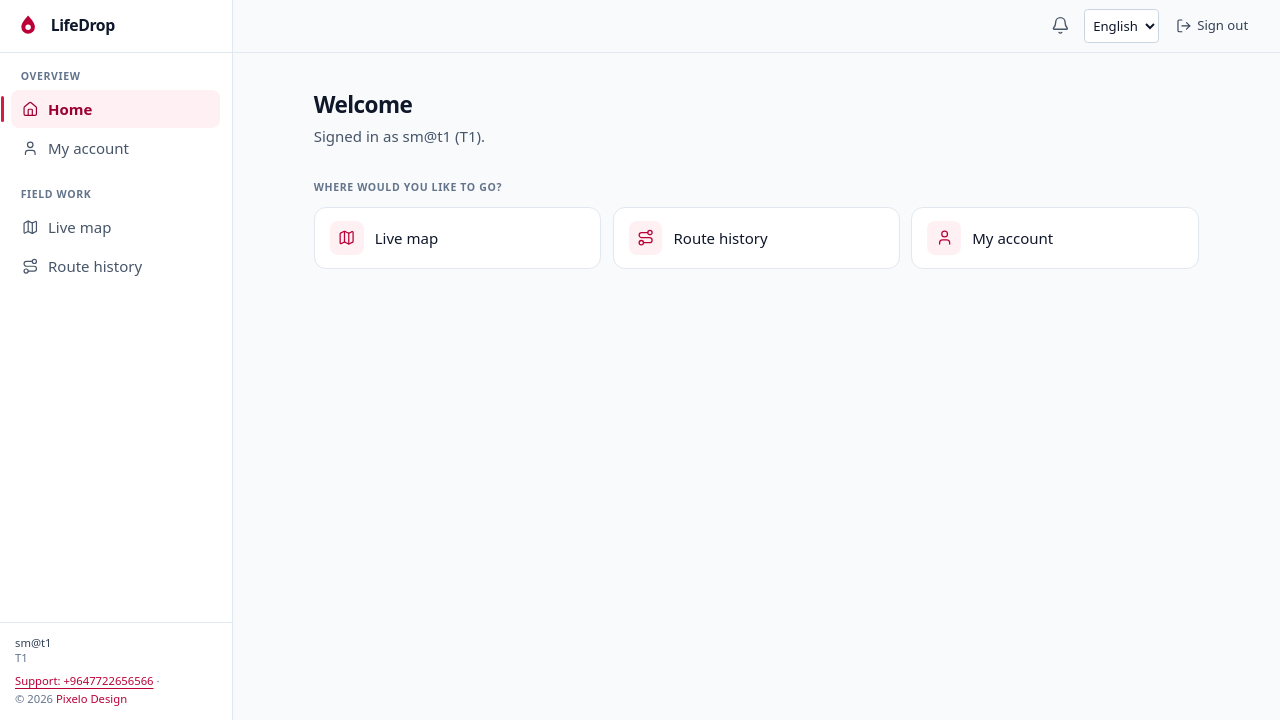
it: route history › shows the server error when the route cannot be read
Click the button "Route history".
click(116, 267)  # box [11,248,220,285]
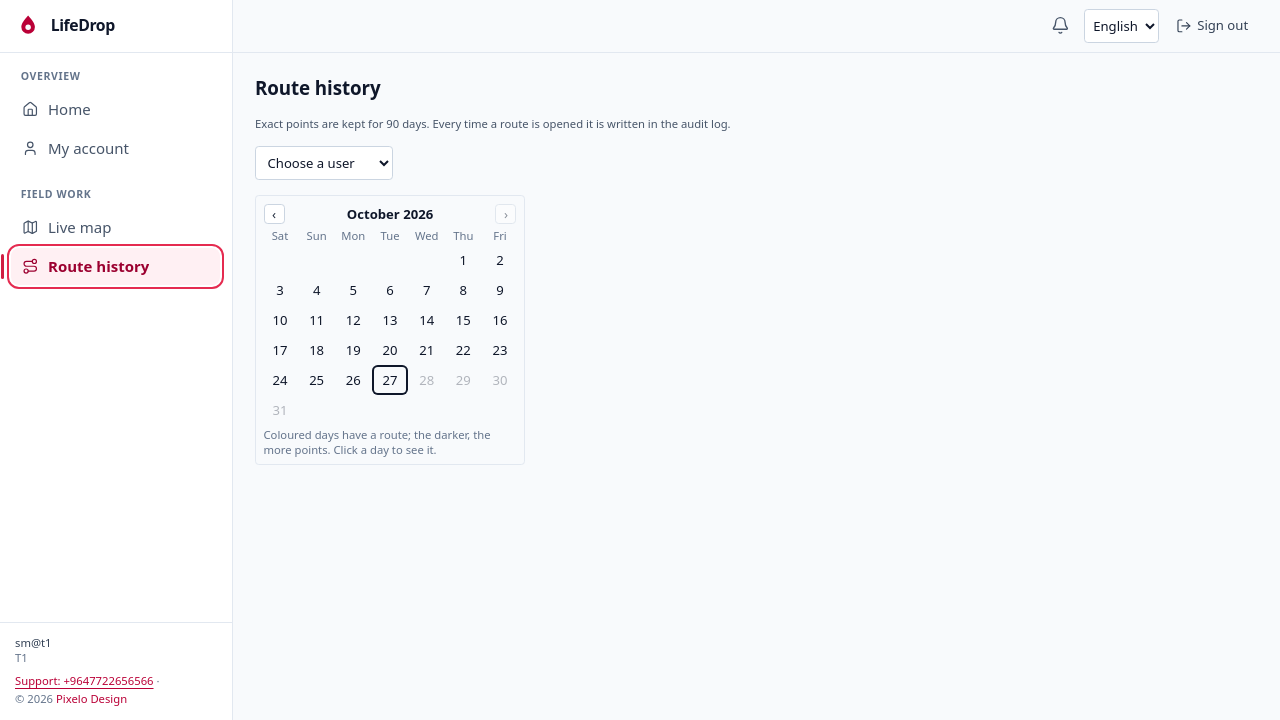
Select "rep@t1 · Team A" in the dropdown named "User" at (324, 163), box [255,146,393,180]
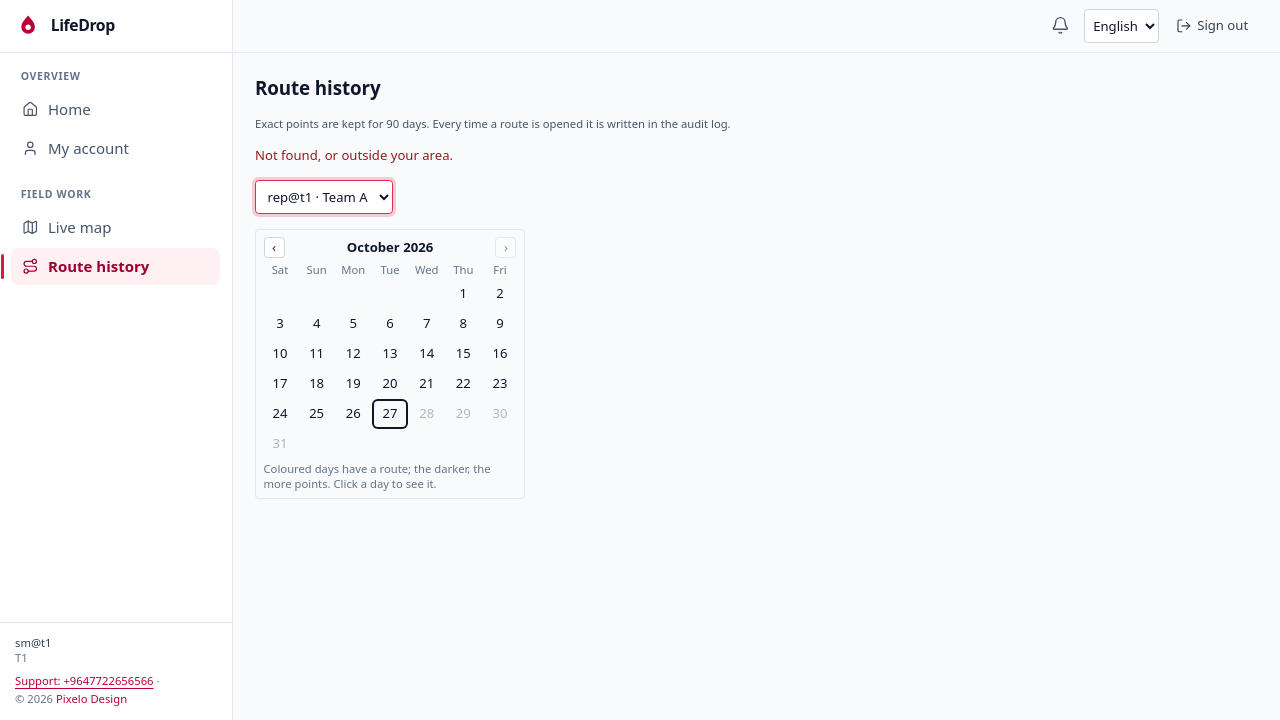
Now the message "Not found, or outside your area." is shown, box [255,146,453,164]
